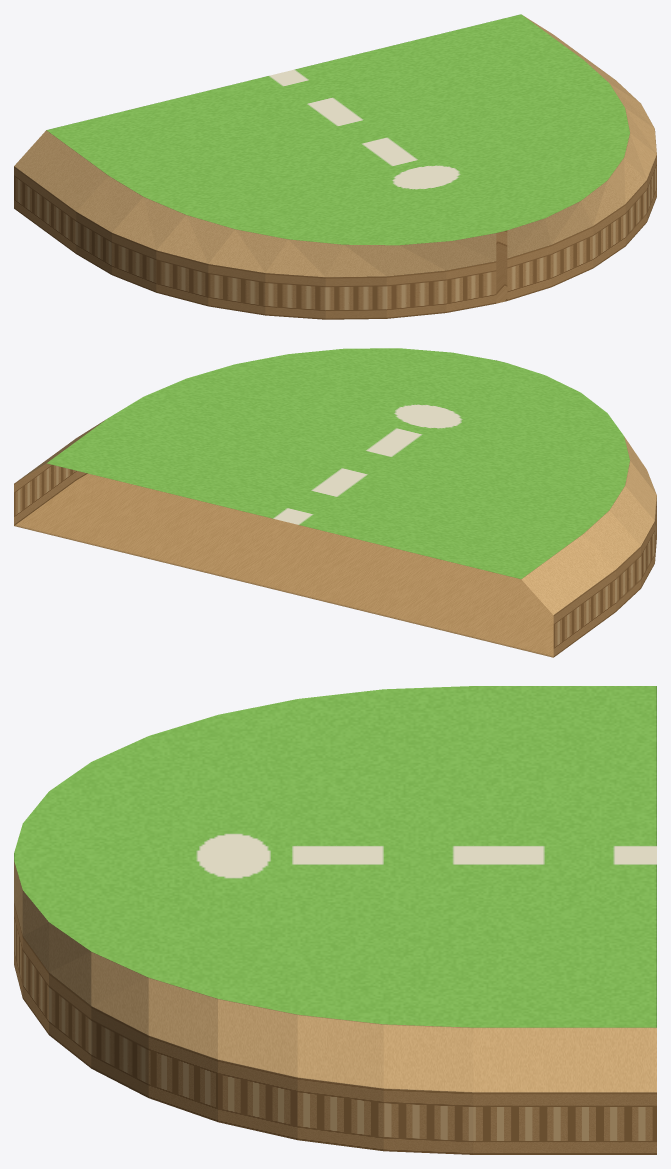
The model's file is road_end.obj.
3 views of the same model, one above another, from view 1: azimuth 30°, elevation 25°; view 2: azimuth 150°, elevation 25°; view 3: azimuth 270°, elevation 25° (orthographic). The views are drawn at different scales.
Bounding box in the file's own units: 2 × 0.25 × 1.4.
1 material, 1 textured.
